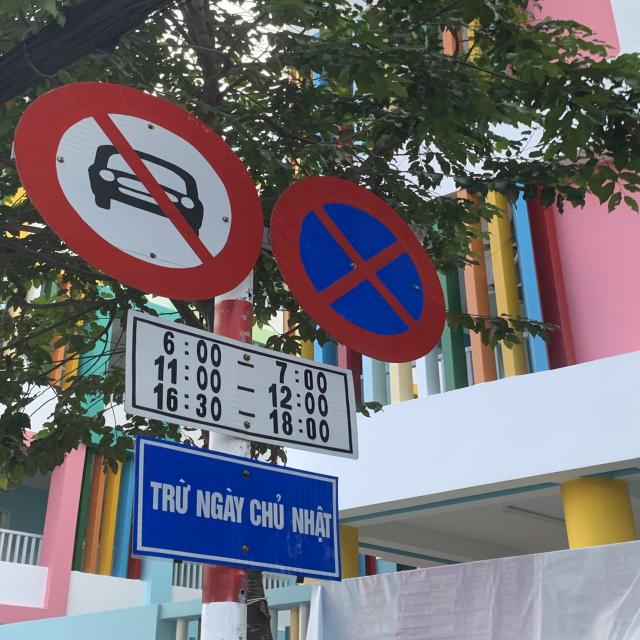Cam_Dung_Va_Dau_Xe: (268, 174, 447, 365)
Cam_O_To: (15, 80, 266, 301)
